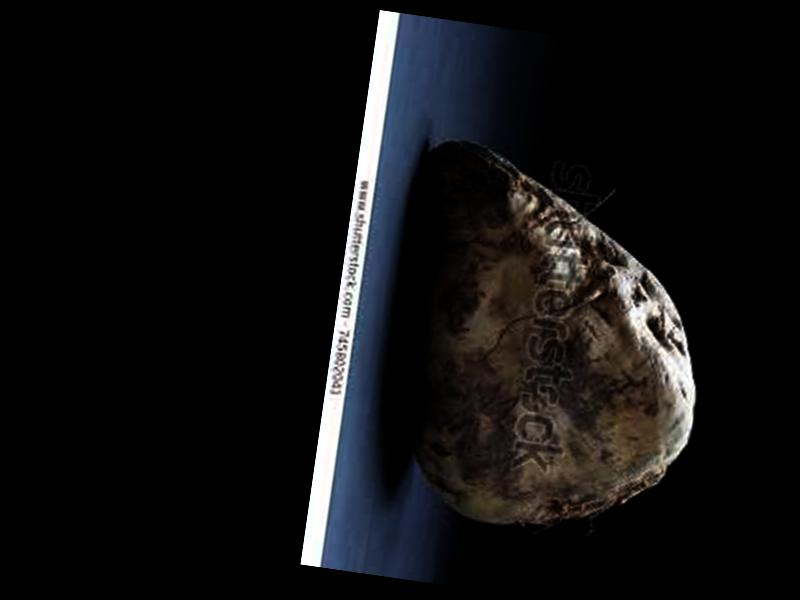Beet: (379, 142, 724, 554)
